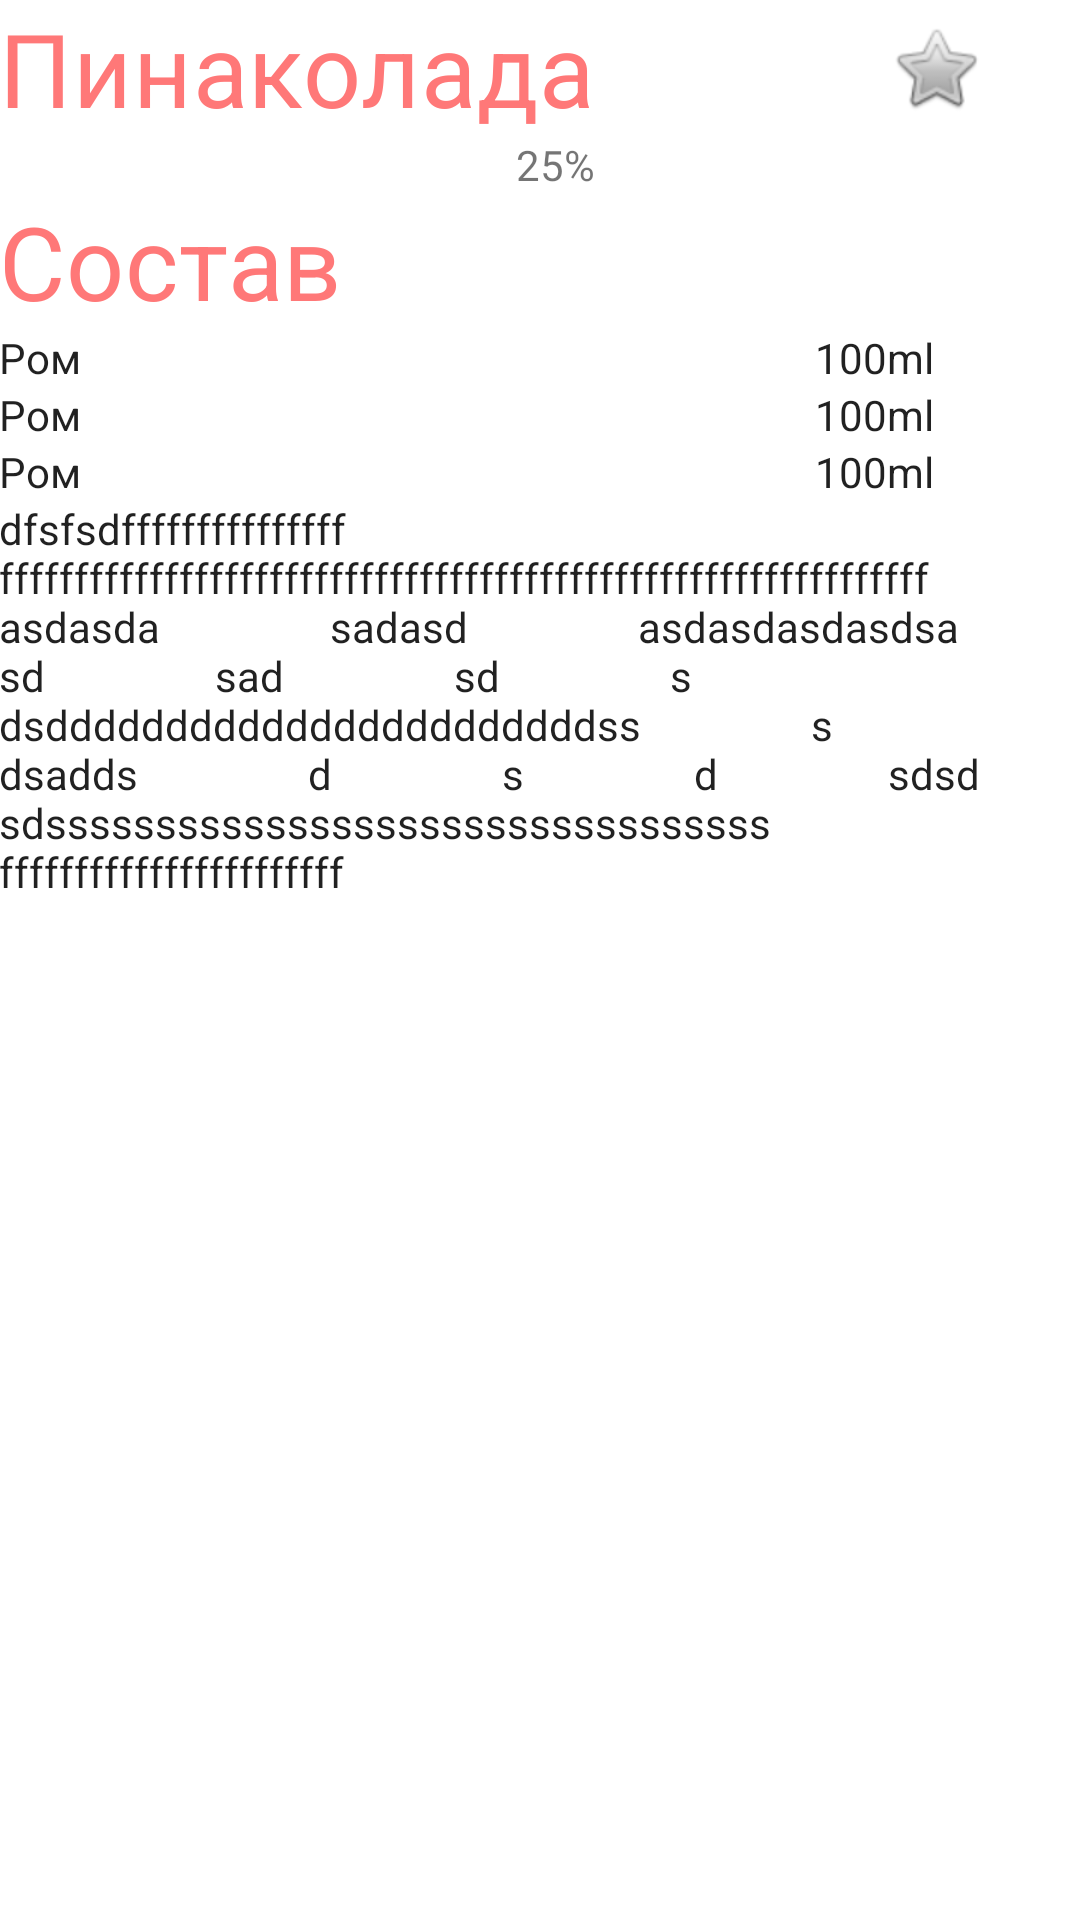

Locate icon controls on the screen. Image size 1080x1920, boxes as {"x1": x1, "y1": y1, "x2": x2, "y2": y2}.
star: {"x1": 897, "y1": 30, "x2": 977, "y2": 108}
